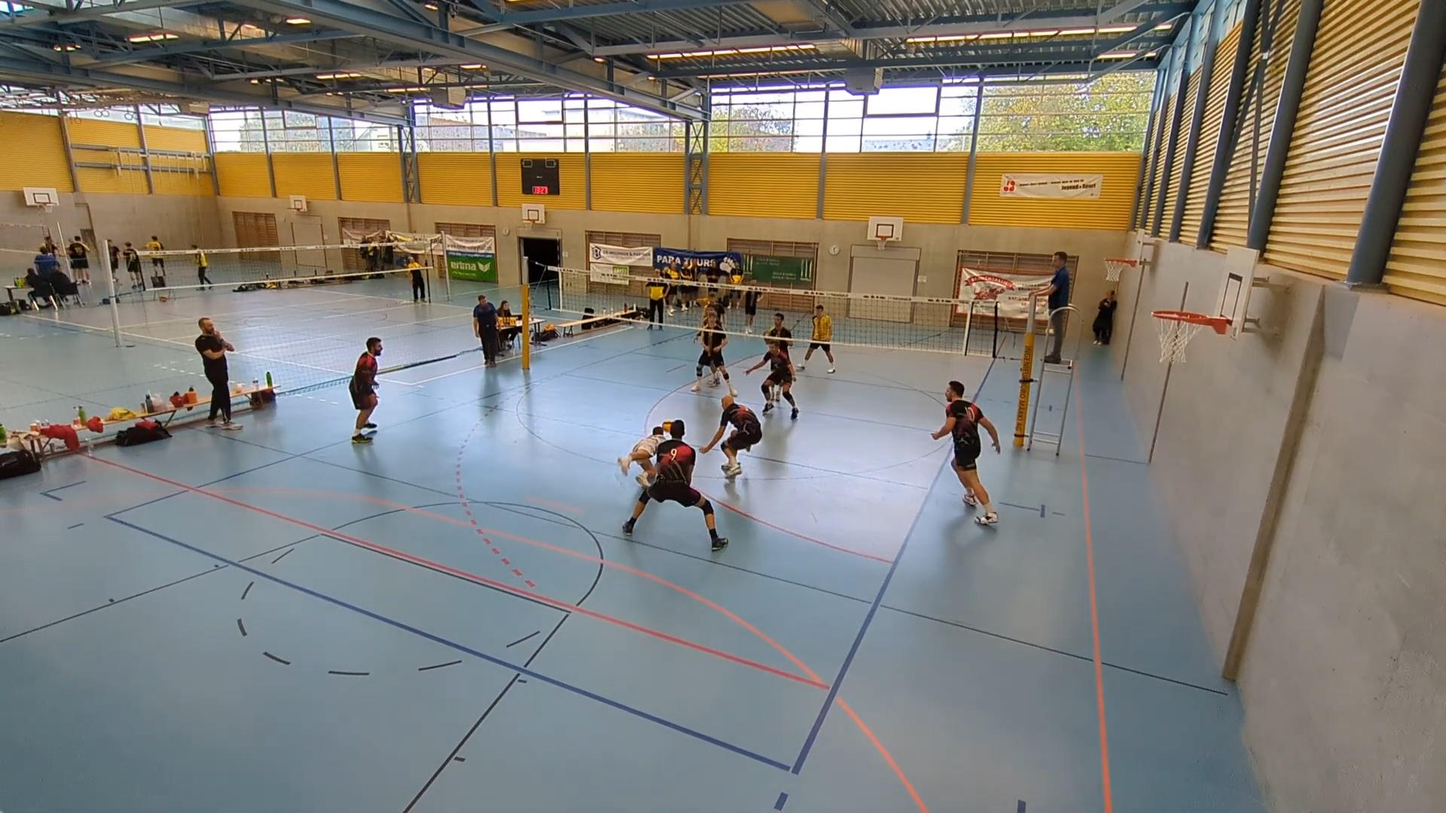difesa: (616, 424, 665, 483)
